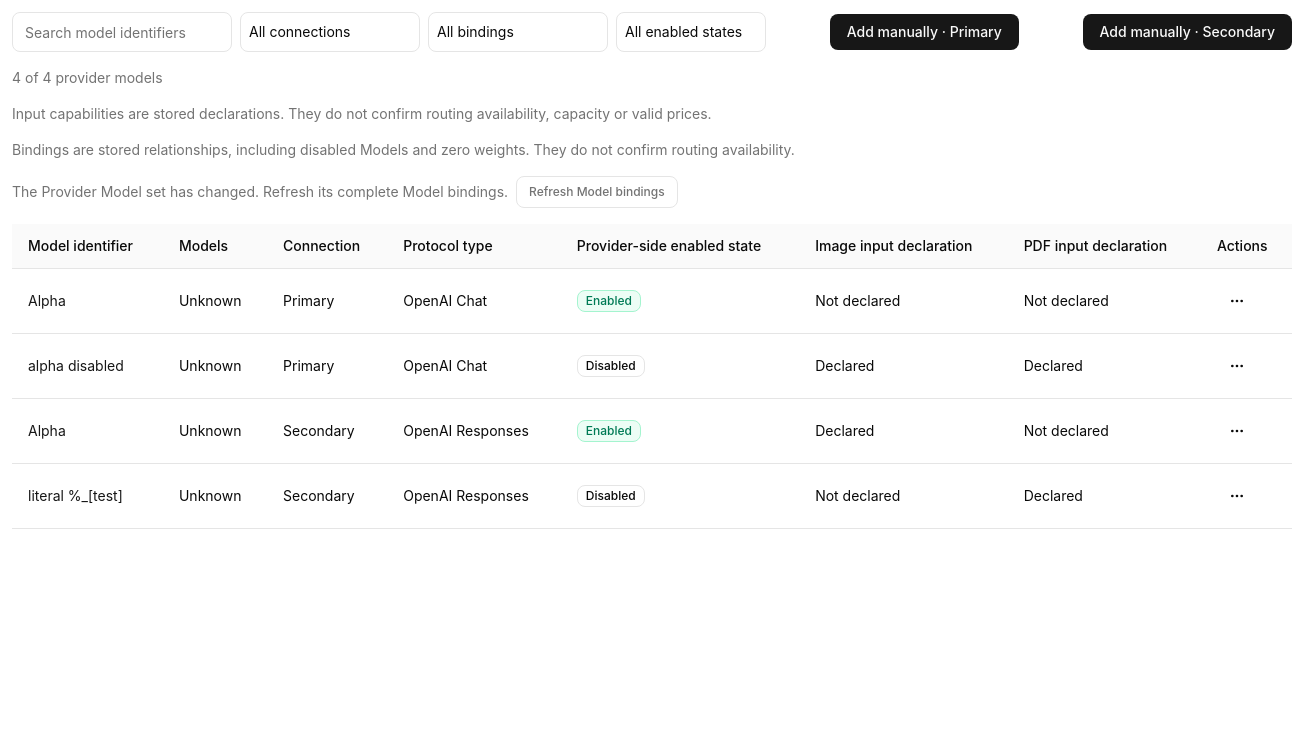
rejects a missing catalogue/projection set mismatch before names or filtering
The image size is (1304, 732).
Click the button "All bindings" at point(518, 32), box 428,12 -> 608,52
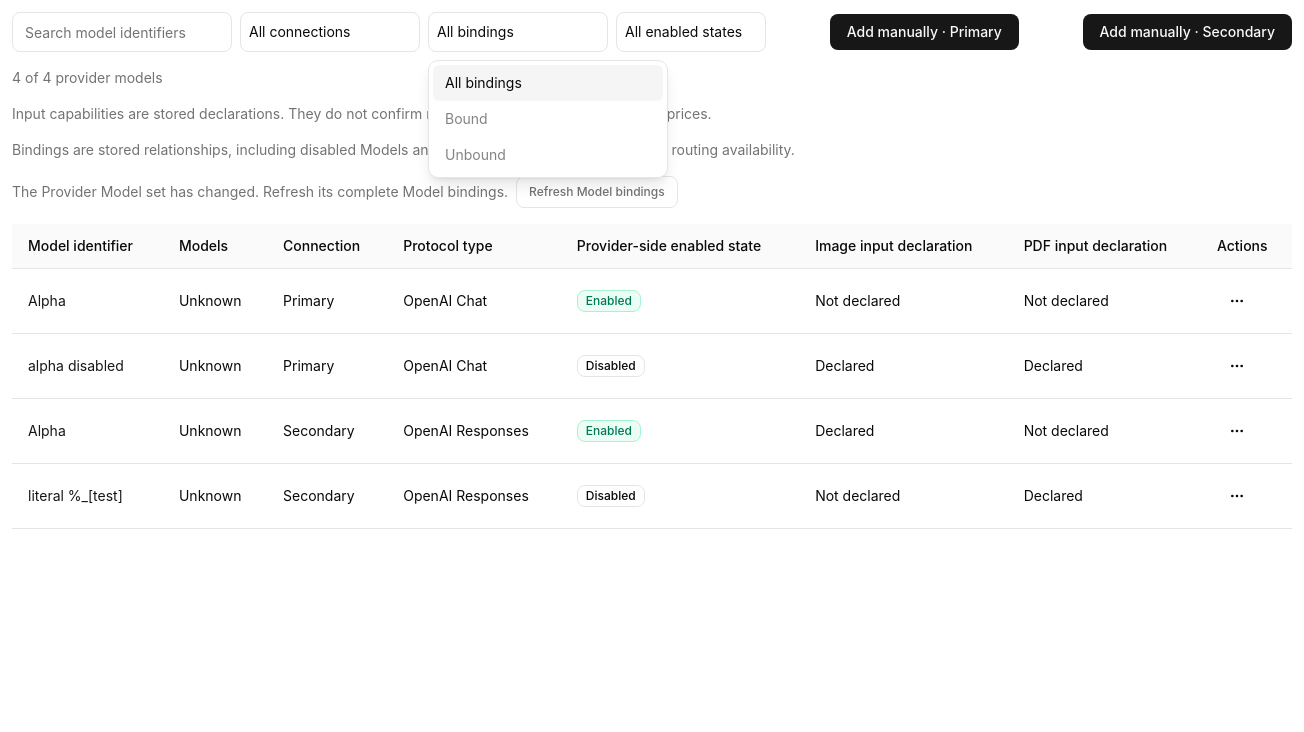
Expected: the menu item "Bound" is shown, 445,110 -> 488,127
